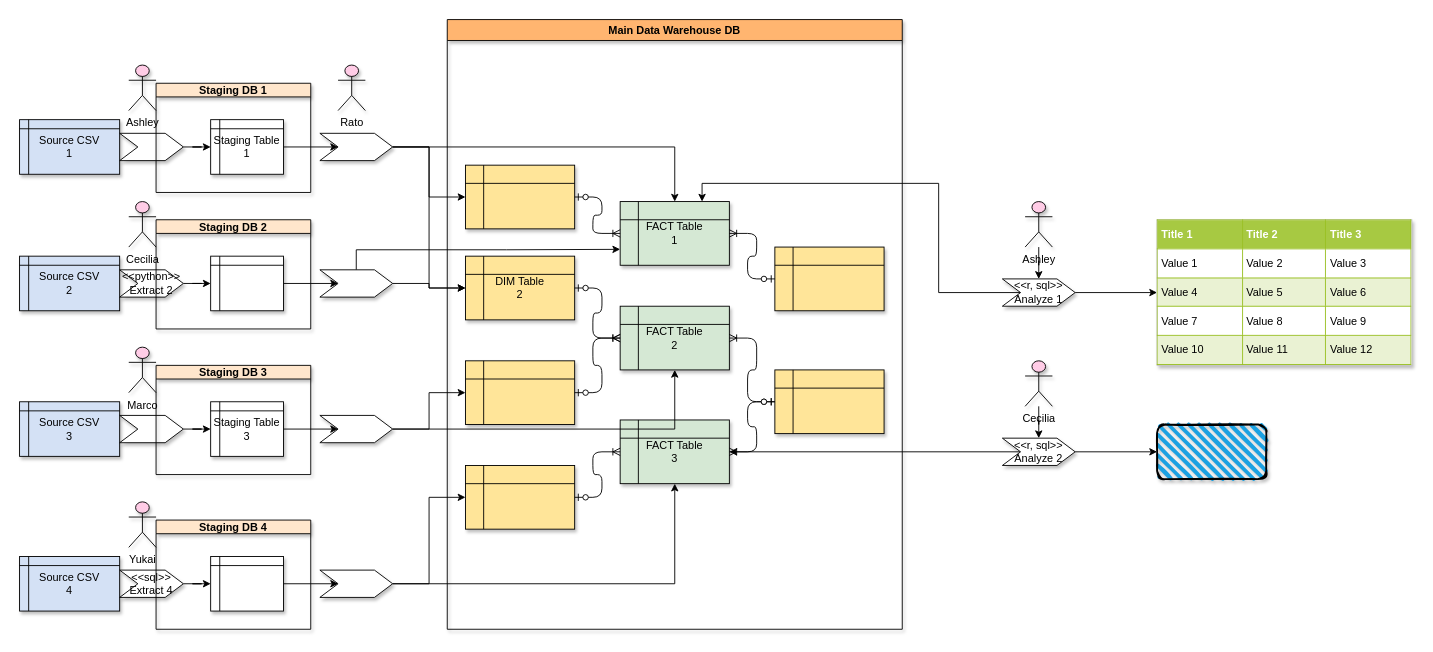
Some shapes in this 1433 by 652 pixel diagram are drawn without their labels. The shapes that lost their labels are listed below. From the top down, each one's centre as x and y in pixels, then its label:
the point at 152,148: <<r>> Extract 1
the point at 356,148: <<sql>> Load 1
the point at 520,198: DIM Table 1
the point at 247,284: Staging Table 2
the point at 356,284: <<sql>> Load 2
the point at 830,280: dim_date
the point at 520,393: DIM Table 3
the point at 830,402: dim_state
the point at 152,430: <<tool>> Extract 3
the point at 356,430: <<sql>> Load 3
the point at 1212,453: Dashboard
the point at 520,498: DIM Table 4
the point at 247,584: Staging Table 4
the point at 356,585: <<sql>> Load 4
